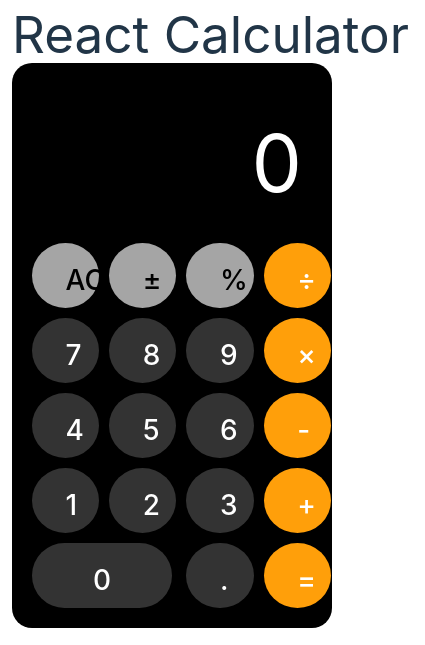
Test: Calculator › number input updates display
Click the button "7".
click(66, 350)  # box [32,318,99,383]
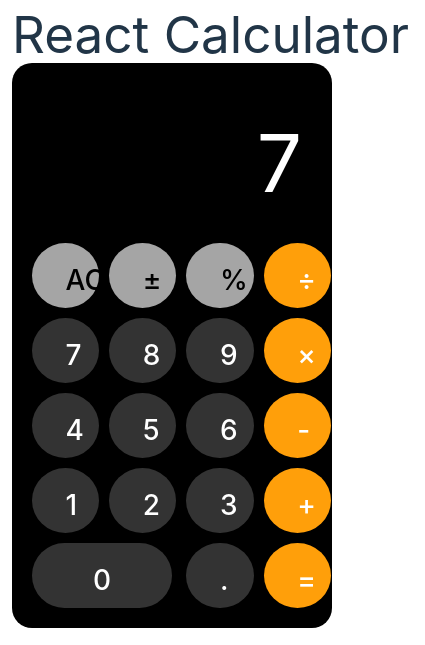
Click the button "8".
click(143, 350)  # box [109,318,176,383]
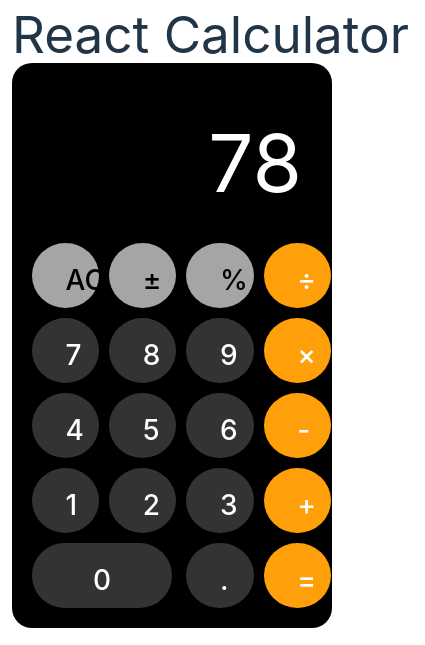
Expected: the text with test id "display" reads "78", [208,114,302,211]
